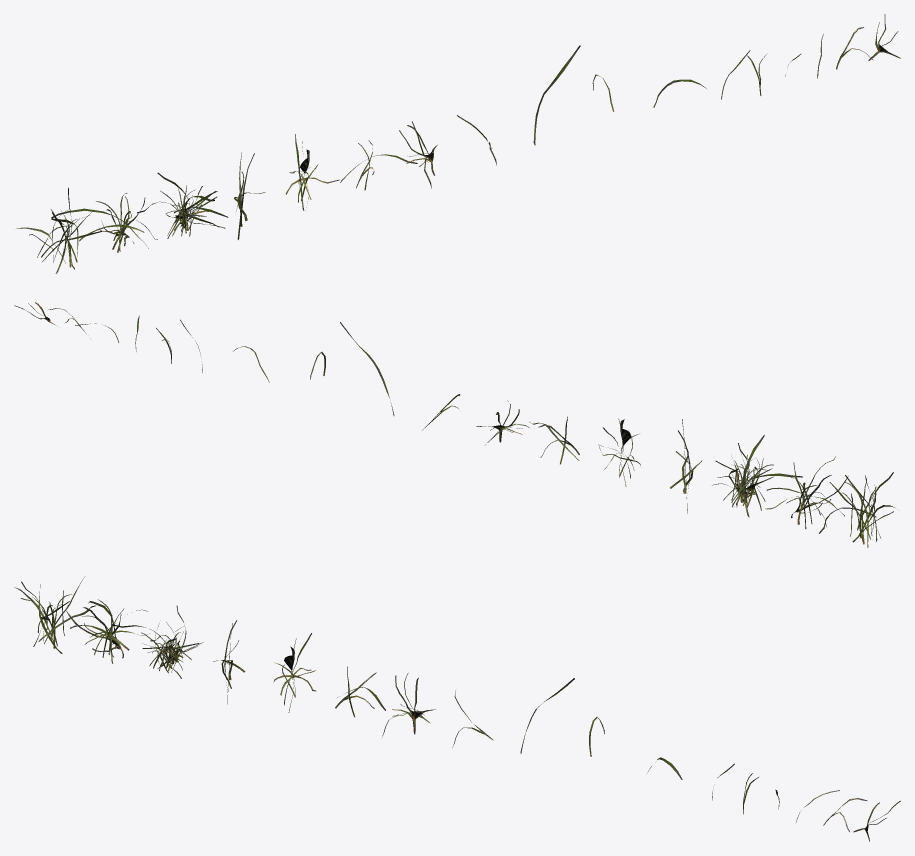
File: grass_medium_01.glb
The picture shows the model from 3 angles, top to bottom: view 1: azimuth 30°, elevation 25°; view 2: azimuth 150°, elevation 25°; view 3: azimuth 330°, elevation 25°; orthographic projection.
Visible parts, largest first — view 1: grass_medium_01_large_c_LOD0, grass_medium_01_large_a_LOD0, grass_medium_01_large_b_LOD0, grass_medium_01_mid_b_LOD0; view 2: grass_medium_01_large_c_LOD0, grass_medium_01_large_a_LOD0, grass_medium_01_large_b_LOD0; view 3: grass_medium_01_large_c_LOD0, grass_medium_01_large_a_LOD0, grass_medium_01_large_b_LOD0, grass_medium_01_mid_b_LOD0.
Part boxes in pixels (x1=…): grass_medium_01_large_c_LOD0: x1=137, y1=172, x2=228, y2=238; grass_medium_01_large_a_LOD0: x1=16, y1=187, x2=101, y2=273; grass_medium_01_large_b_LOD0: x1=51, y1=193, x2=157, y2=252; grass_medium_01_mid_b_LOD0: x1=286, y1=134, x2=339, y2=210; grass_medium_01_large_c_LOD0: x1=712, y1=435, x2=802, y2=517; grass_medium_01_large_a_LOD0: x1=819, y1=472, x2=894, y2=547; grass_medium_01_large_b_LOD0: x1=765, y1=456, x2=848, y2=528; grass_medium_01_large_c_LOD0: x1=112, y1=605, x2=203, y2=678; grass_medium_01_large_a_LOD0: x1=14, y1=577, x2=95, y2=653; grass_medium_01_large_b_LOD0: x1=66, y1=599, x2=149, y2=663; grass_medium_01_mid_b_LOD0: x1=273, y1=633, x2=315, y2=712.
Bounding box in the file's own units: 5.78 × 0.689 × 0.6235.
Materials: 1 (1 with a texture image).
